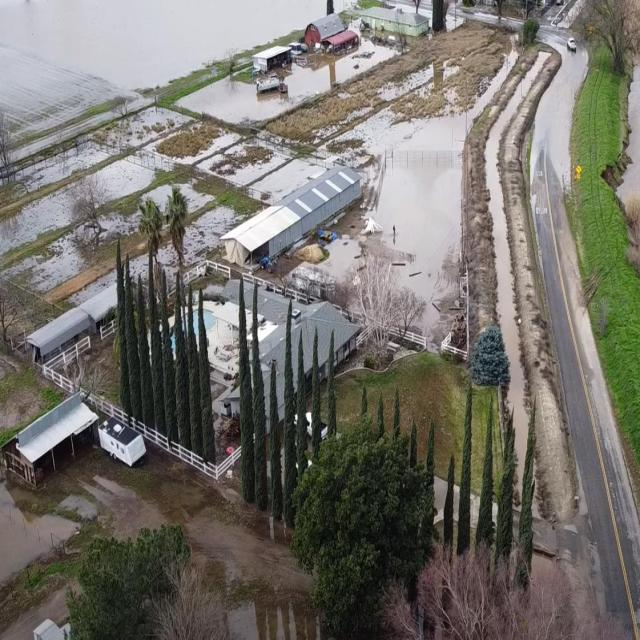flood: (0, 0, 517, 328), (0, 149, 152, 254), (7, 234, 84, 293), (618, 62, 640, 202), (99, 212, 138, 244), (180, 182, 214, 211), (142, 184, 171, 210)
house: (219, 275, 362, 428), (204, 154, 378, 269), (2, 392, 102, 493), (27, 305, 96, 384), (361, 4, 433, 40), (299, 12, 355, 58), (82, 286, 122, 338), (253, 49, 295, 86), (29, 617, 74, 639)
